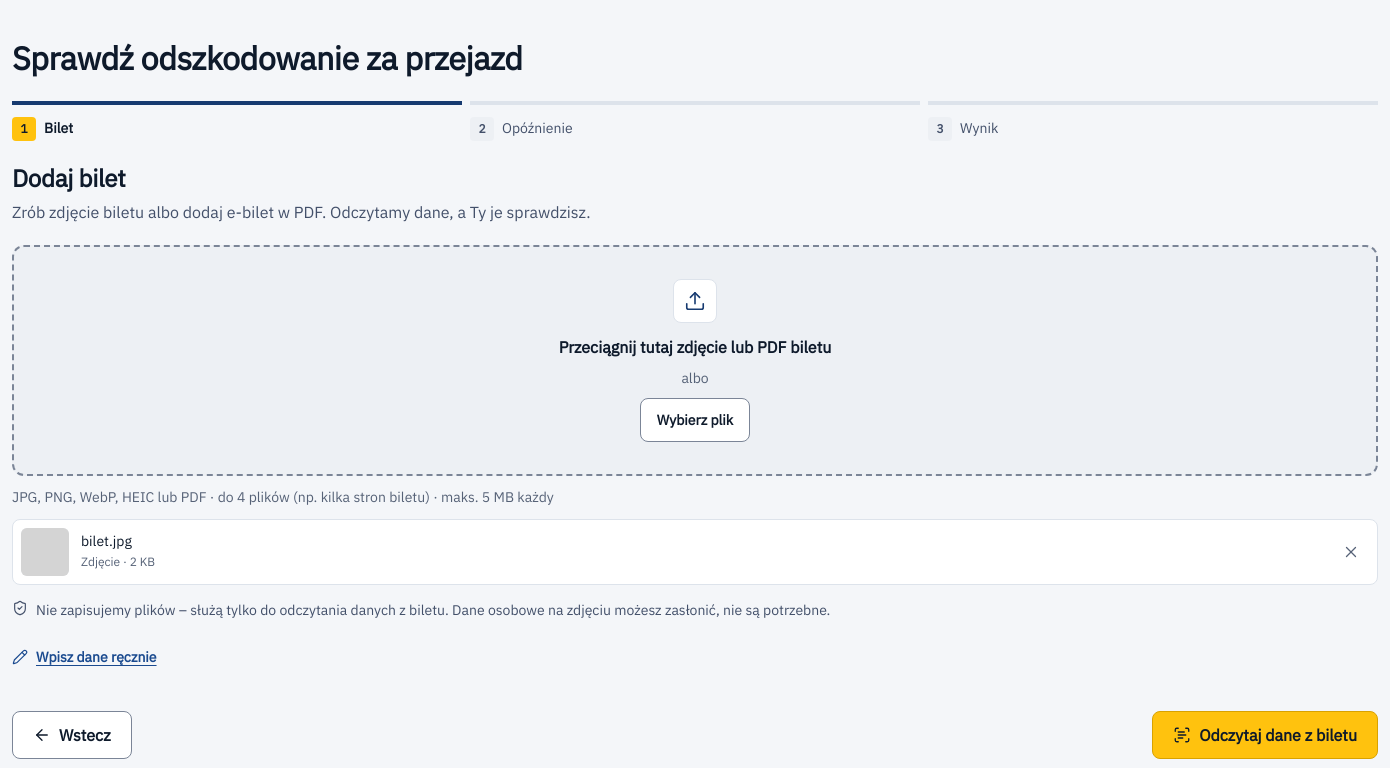
Wizard – ticket step › switches to manual entry when AI is disabled (409) or rate limited (429)
This screenshot has width=1390, height=768.
Earlier steps of the test are not shown.
Click the button "Odczytaj dane z biletu". click: (1265,736)
box: [1152, 712, 1378, 760]
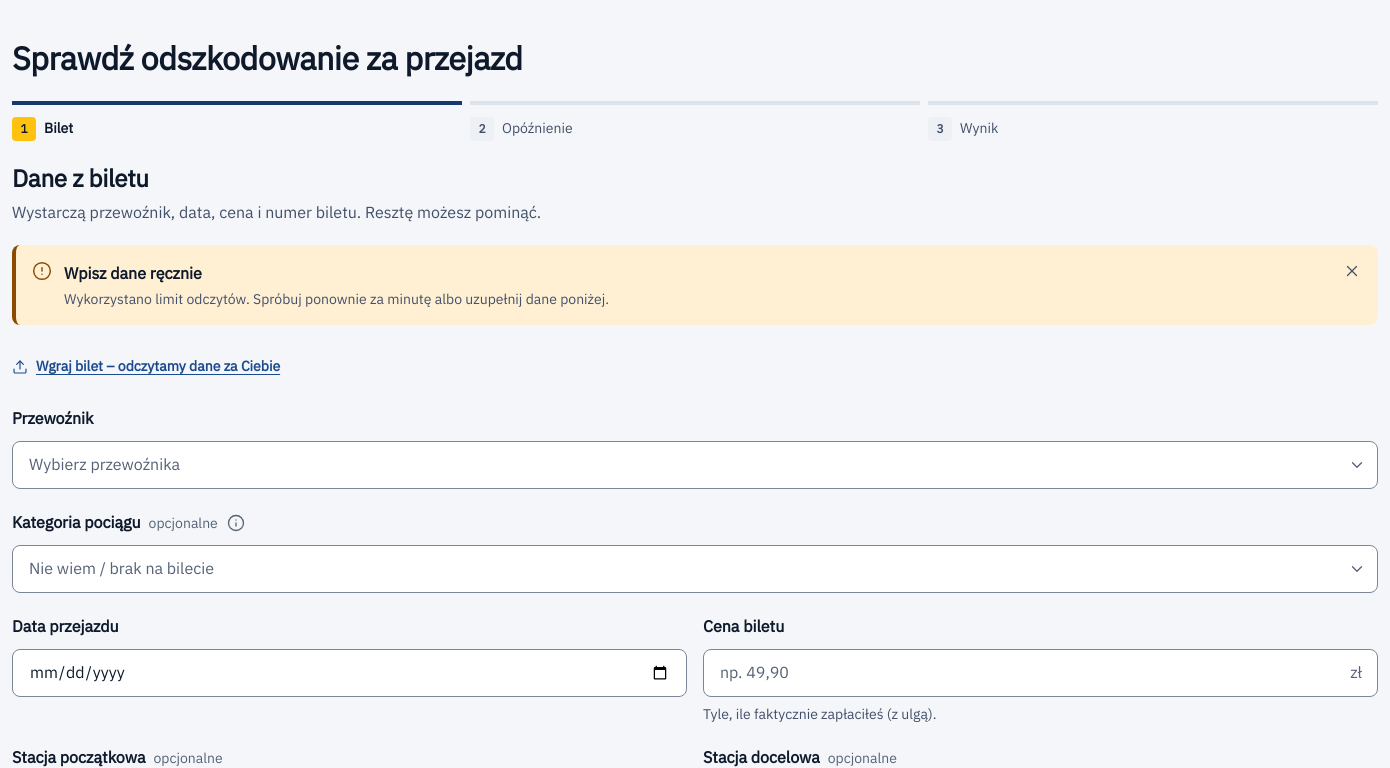
Result: the message "Wpisz dane ręcznie" shows "Spróbuj ponownie za minutę" at [64, 290, 609, 308]
